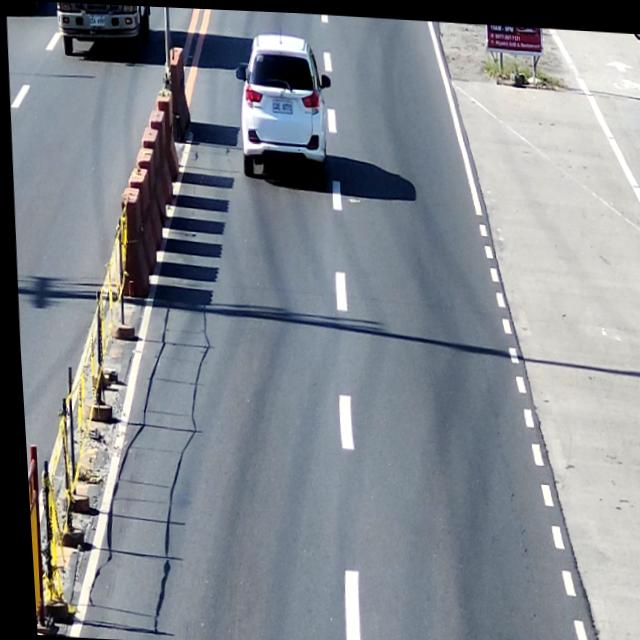Car: (233, 29, 329, 181)
License-Plate: (270, 94, 293, 113), (86, 12, 106, 31)
Truck: (57, 2, 153, 62)
